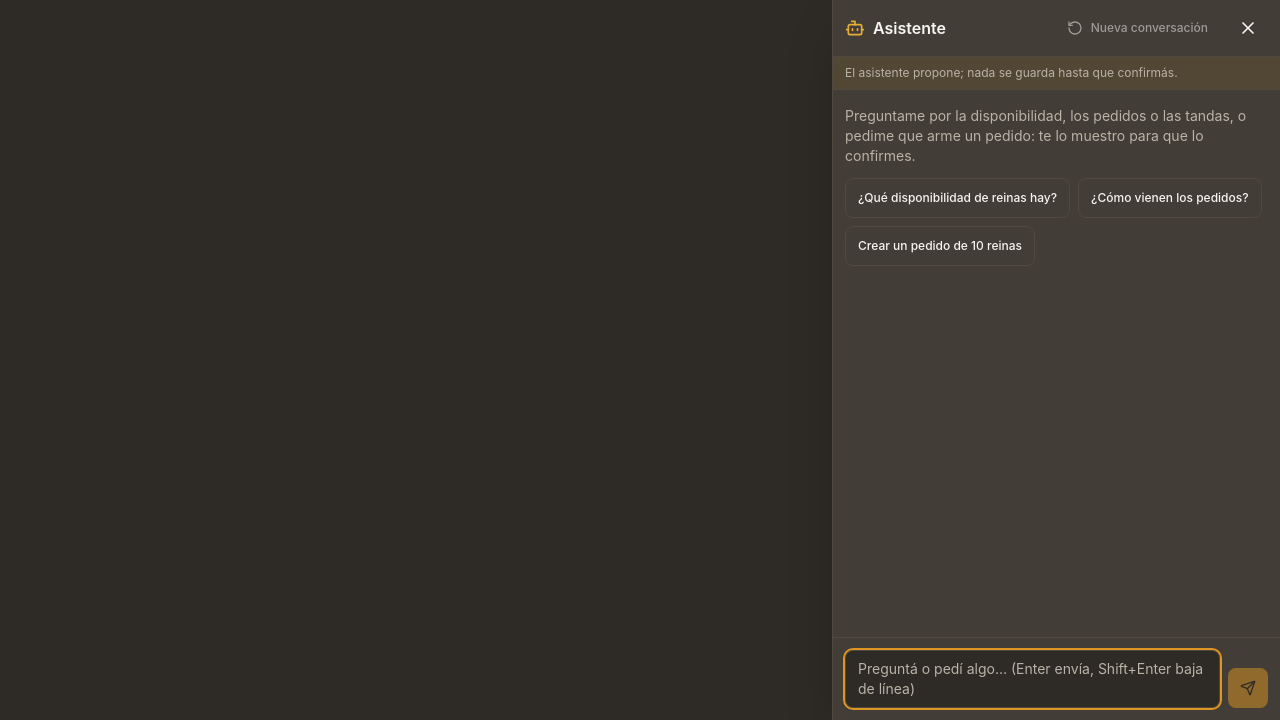
Test: panel del asistente › si falla, muestra el error claro y el reintento usa la misma propuesta
Type "crear pedido" into the text box named "Mensaje para el asistente" at (1032, 679), box [845,650,1220,708]
Then press Enter
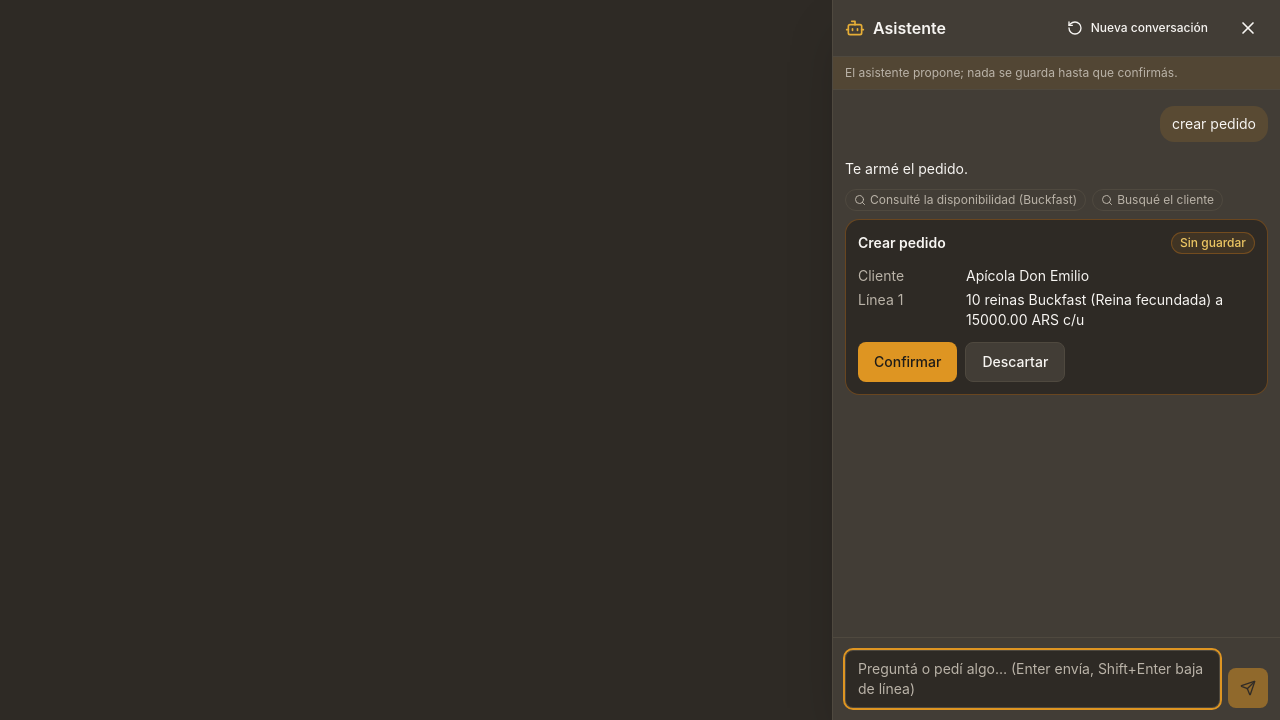
Click the button "Confirmar" at (908, 362), box [858,342,957,382]
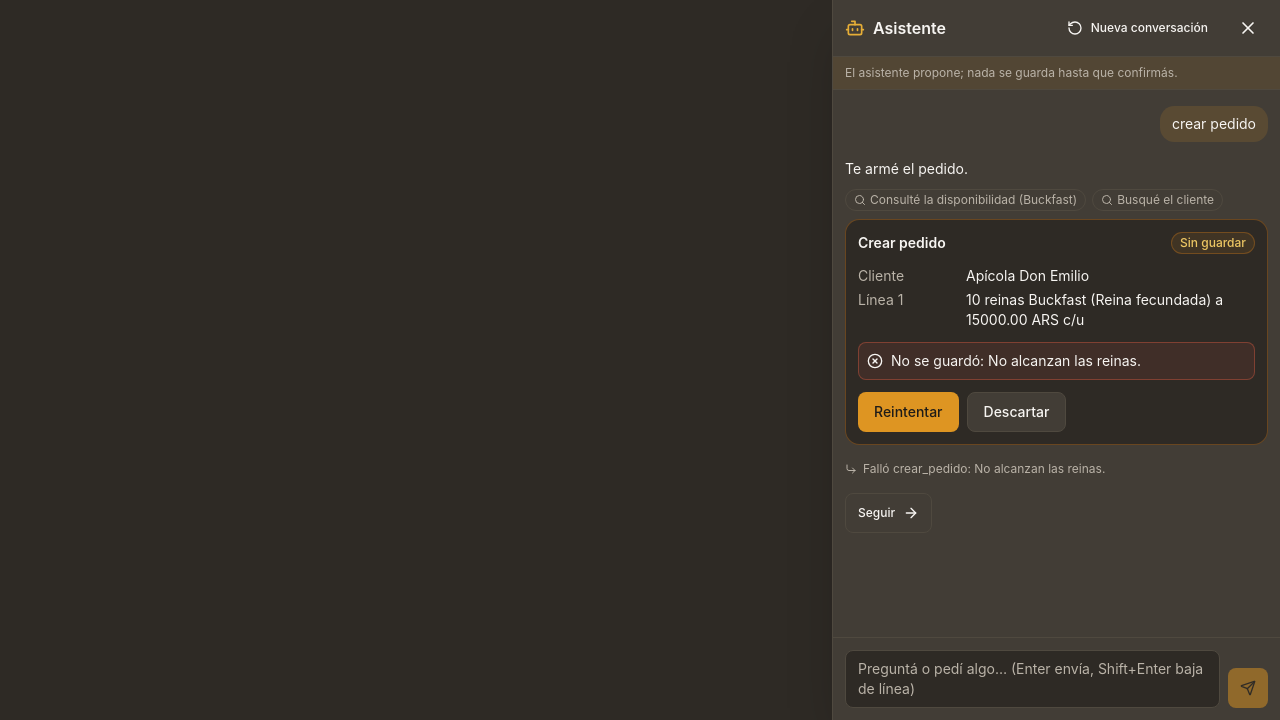
Check: the message shows "No alcanzan las reinas.", box [988,352,1141,369]
Click the button "Reintentar" at (908, 412), box [858,392,958,432]
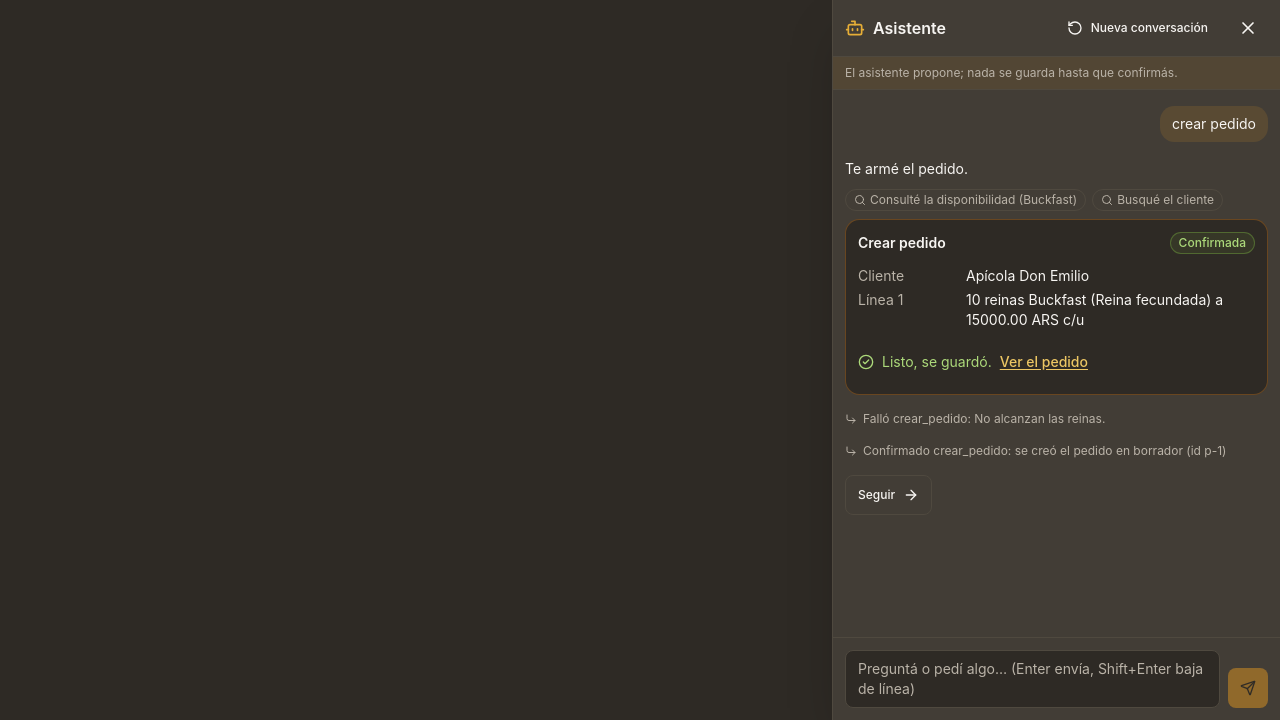
Check: the text "Confirmada" is shown, box [1170,232,1255,254]
